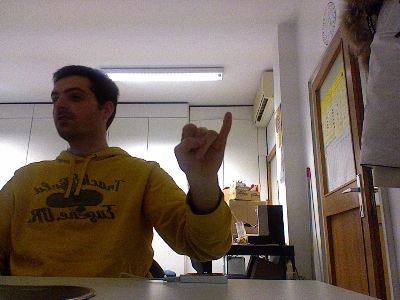小指: (172, 110, 232, 179)
